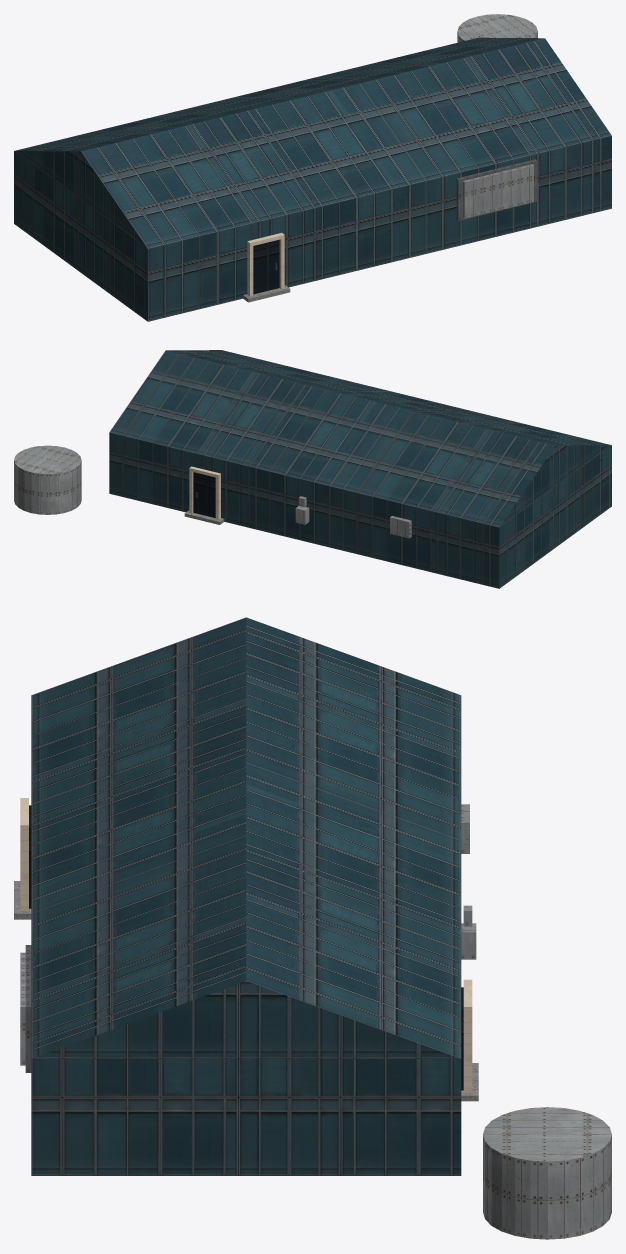
File: greenhouse_lod0.gltf
3 views of the same model, one above another, from view 1: azimuth 30°, elevation 25°; view 2: azimuth 150°, elevation 25°; view 3: azimuth 270°, elevation 25° (orthographic). The views are drawn at different scales.
Visible parts, largest first — view 1: greenhouse_roof, greenhouse_walls, greenhouse_gable_ends, greenhouse__vent_window, greenhouse__water_tank, greenhouse_fen_07-glass-curtain-blue_1_t, greenhouse_fen_04-limestone_0, greenhouse__vent_frame; view 2: greenhouse_roof, greenhouse_walls, greenhouse__water_tank, greenhouse_gable_ends, greenhouse_fen_07-glass-curtain-blue_1_t, greenhouse_fen_14-steel-panel_4, greenhouse_fen_04-limestone_0; view 3: greenhouse_roof, greenhouse_walls, greenhouse_gable_ends, greenhouse__water_tank, greenhouse_fen_04-limestone_0, greenhouse_fen_14-steel-panel_4, greenhouse__vent_frame.
Boxes of the visible parts, x1,y1,x2,y2 form: greenhouse_roof: (15,37,611,248); greenhouse_walls: (14,136,611,321); greenhouse_gable_ends: (14,151,147,248); greenhouse__vent_window: (463,164,533,218); greenhouse__water_tank: (457,14,537,42); greenhouse_fen_07-glass-curtain-blue_1_t: (253,239,279,294); greenhouse_fen_04-limestone_0: (247,233,284,296); greenhouse__vent_frame: (456,159,536,220); greenhouse_roof: (109,350,611,527); greenhouse_walls: (109,432,611,588); greenhouse__water_tank: (14,445,81,514); greenhouse_gable_ends: (500,445,611,526); greenhouse_fen_07-glass-curtain-blue_1_t: (193,472,215,517); greenhouse_fen_14-steel-panel_4: (295,496,411,538); greenhouse_fen_04-limestone_0: (189,466,220,519); greenhouse_roof: (31,617,461,1058); greenhouse_walls: (31,1059,461,1175); greenhouse_gable_ends: (32,981,460,1058); greenhouse__water_tank: (483,1107,611,1239); greenhouse_fen_04-limestone_0: (20,798,472,1092); greenhouse_fen_14-steel-panel_4: (461,804,476,959); greenhouse__vent_frame: (25,945,31,1072).
Bounding box in the file's own units: 23.5 × 5.02 × 13.9.
